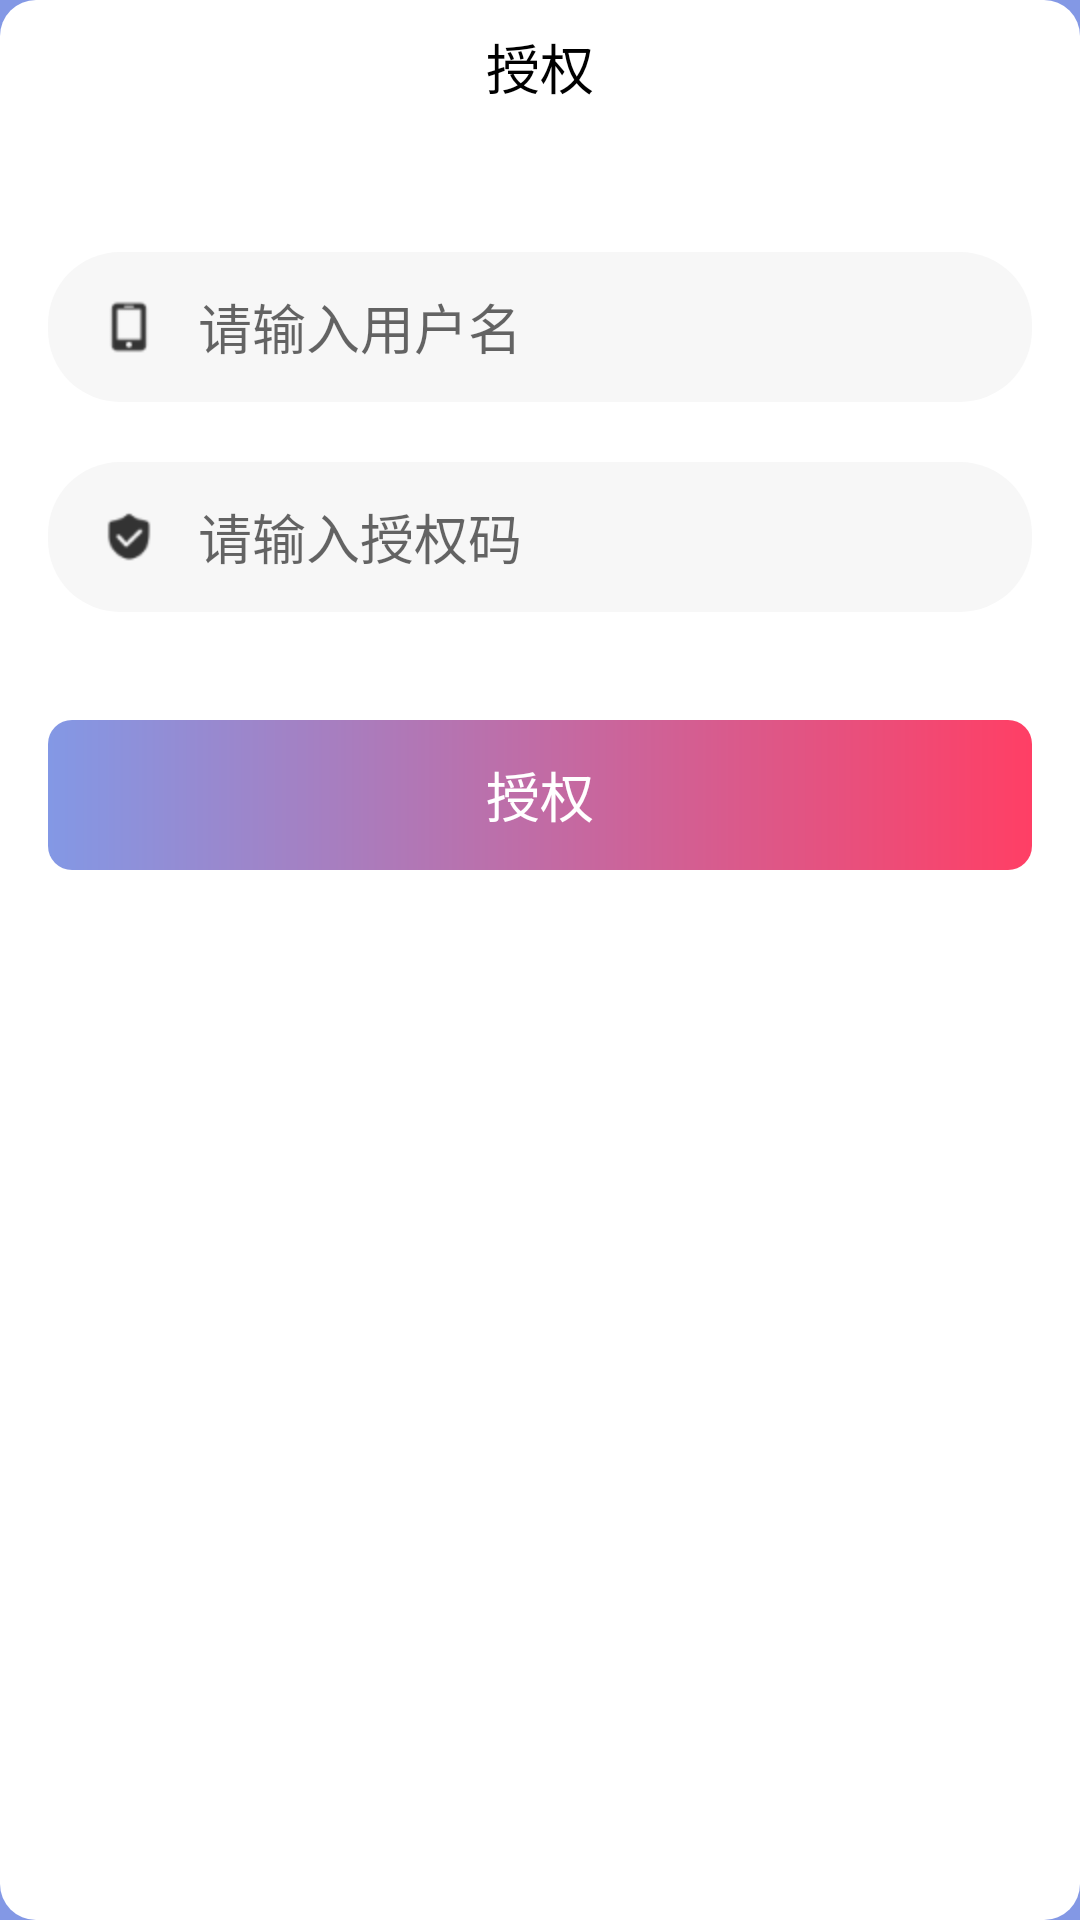

Where to tap for icons on this 1080×1920 app screen, as (x=x, y=y):
login pwd: (x=129, y=537)
login username: (x=129, y=327)
